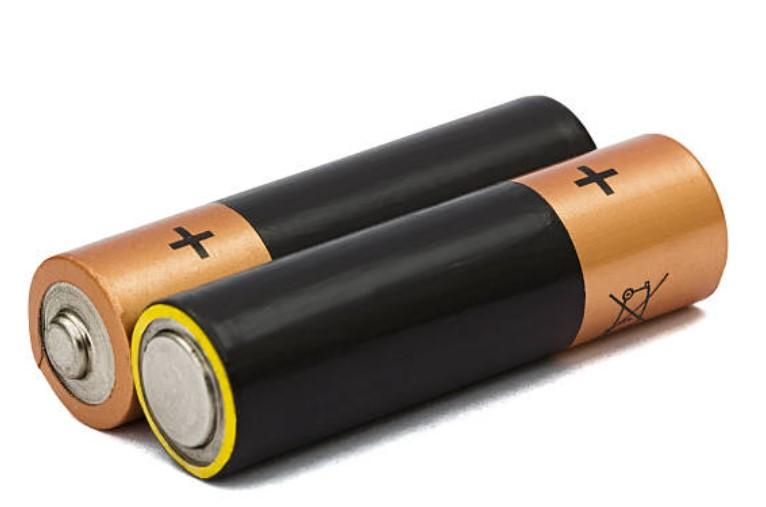Battery: (131, 134, 729, 478), (28, 96, 596, 430)
